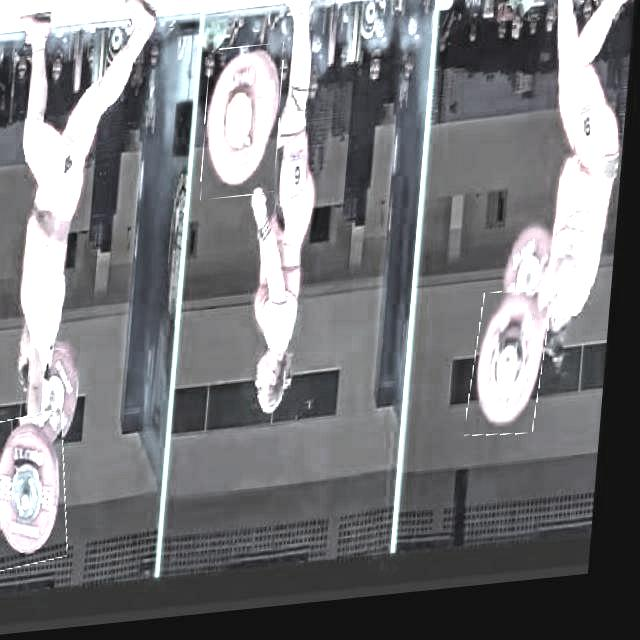barbell: (202, 49, 287, 205), (1, 412, 83, 572), (475, 300, 557, 450)
